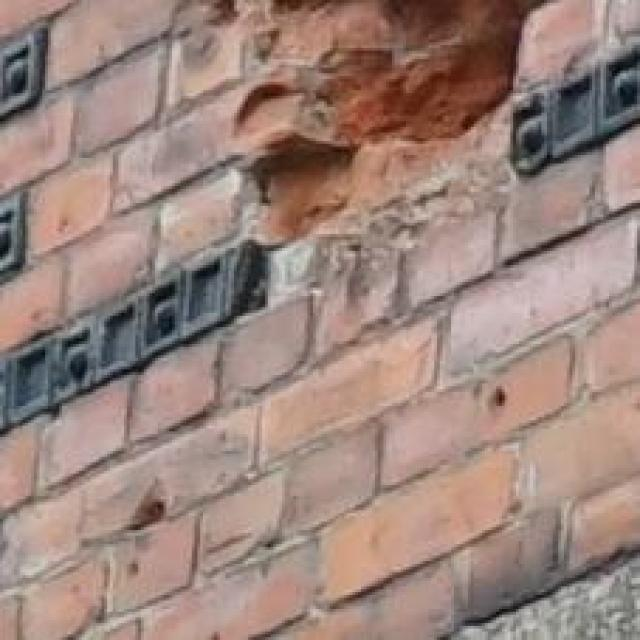Crack: (162, 3, 535, 283)
